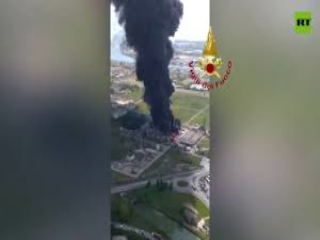smoke: (112, 2, 189, 153)
